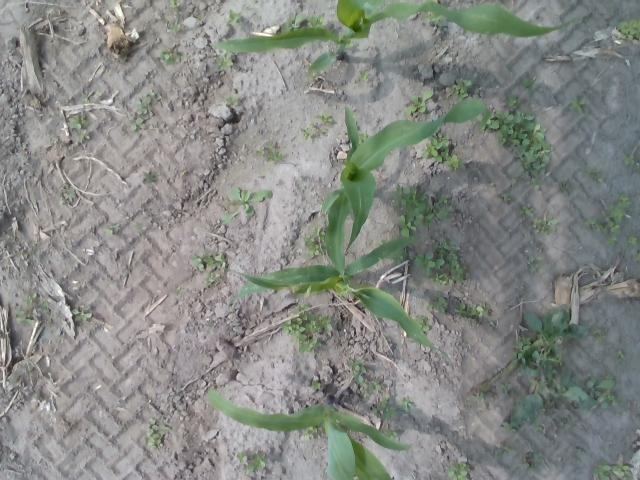Maize: (226, 232, 452, 362), (207, 0, 584, 76), (320, 99, 493, 251), (205, 384, 412, 480)
Weeds: (500, 304, 600, 432), (474, 108, 552, 190), (279, 304, 333, 354), (414, 238, 468, 284), (390, 183, 434, 236), (218, 186, 273, 224), (420, 127, 464, 169), (128, 91, 160, 132), (601, 196, 630, 235), (585, 374, 617, 406), (302, 226, 328, 260), (280, 13, 326, 32), (592, 460, 634, 480), (145, 418, 169, 450), (405, 88, 434, 114), (237, 450, 266, 476), (190, 252, 230, 270), (468, 381, 494, 408), (68, 114, 92, 143), (255, 140, 283, 162), (371, 396, 397, 419), (453, 302, 490, 318), (530, 214, 558, 235), (448, 77, 472, 101), (432, 194, 452, 220), (346, 359, 366, 384), (618, 18, 640, 40), (426, 292, 448, 314), (158, 46, 182, 66), (447, 461, 472, 480), (300, 122, 326, 140), (521, 450, 545, 468), (387, 248, 408, 268), (214, 50, 234, 70), (410, 314, 430, 334), (359, 380, 381, 397), (71, 305, 92, 322), (582, 216, 604, 232), (528, 255, 547, 272), (504, 94, 526, 108), (568, 96, 586, 113), (423, 10, 443, 25), (15, 308, 33, 324), (516, 204, 536, 218), (586, 168, 604, 182), (226, 9, 242, 24), (141, 170, 159, 183), (60, 188, 76, 202), (224, 92, 239, 106), (401, 396, 416, 410), (592, 329, 608, 342), (24, 292, 38, 306), (202, 274, 216, 288), (80, 90, 94, 104), (304, 424, 317, 439), (560, 181, 572, 197), (104, 222, 121, 233), (500, 190, 514, 203), (356, 131, 370, 144), (383, 426, 396, 440), (316, 114, 334, 124), (503, 444, 517, 456), (622, 154, 636, 165), (614, 350, 626, 361), (168, 0, 181, 10), (626, 236, 640, 245), (168, 23, 182, 32), (522, 76, 532, 88), (358, 70, 370, 80), (36, 306, 50, 314), (306, 70, 317, 80), (606, 237, 618, 246), (311, 380, 323, 389), (633, 252, 640, 262), (346, 40, 354, 48), (381, 239, 388, 244), (184, 172, 189, 176)
